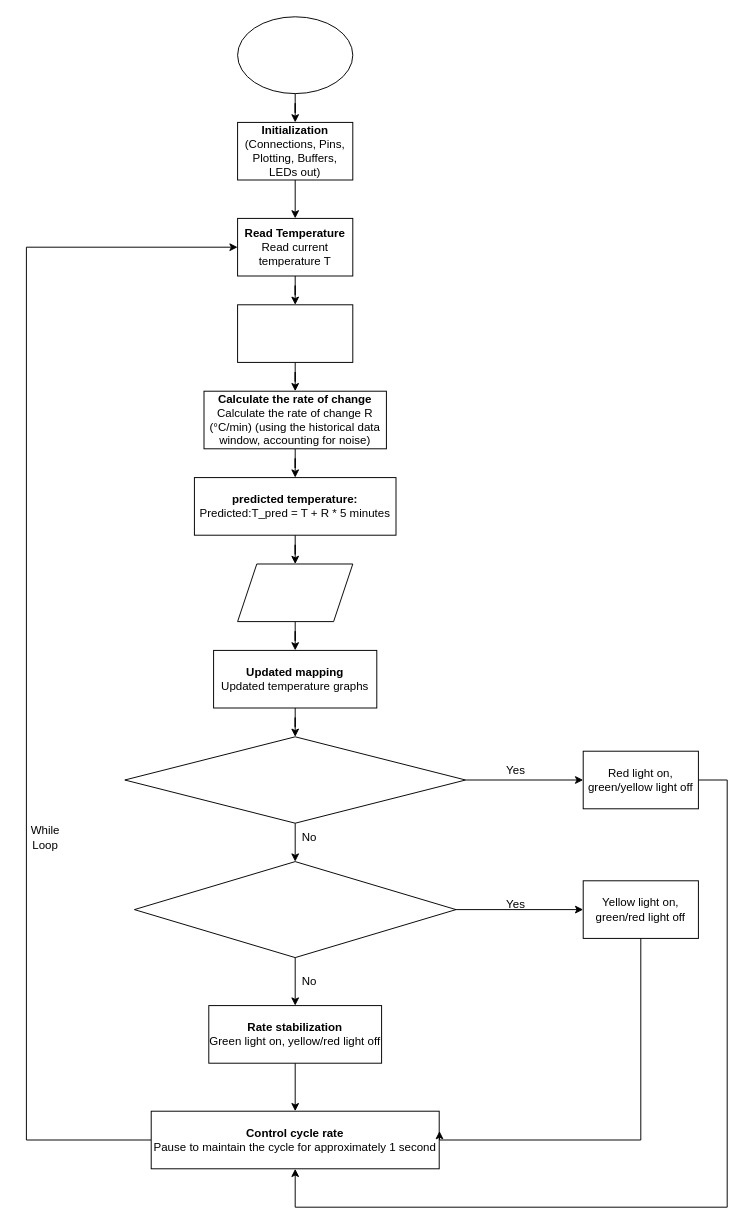
Image size: 752x1232. Some labels were removed from this diagram. Here are the shapes that lost their labels. From the top down, the box of each, then its label:
(237, 16, 353, 94): Start temp_predicton function
(237, 304, 353, 362): Stored Data Store T and time t in a buffer
(237, 563, 353, 622): Output: T、R、T_pred
(124, 736, 466, 823): Judgmental rate of change (major decision) Is R > +4 °C/min?
(133, 861, 456, 958): Judgmental rate of change (minor decision) Is R < -4 °C/min?
